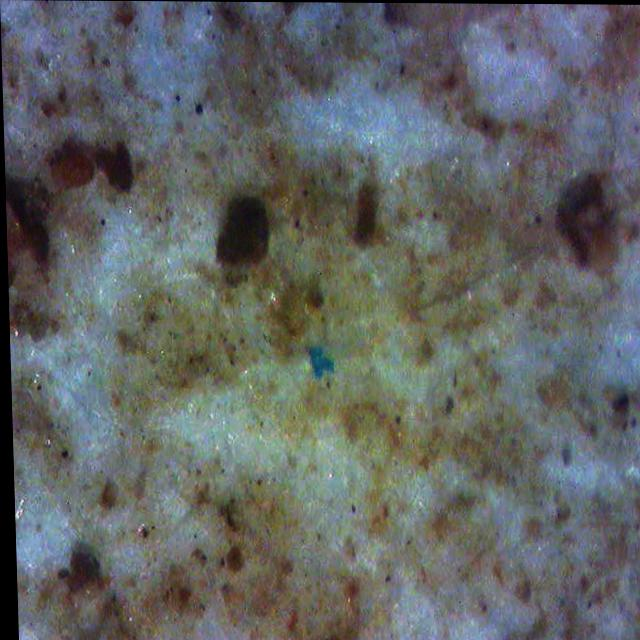microplastic: (302, 339, 336, 382)
